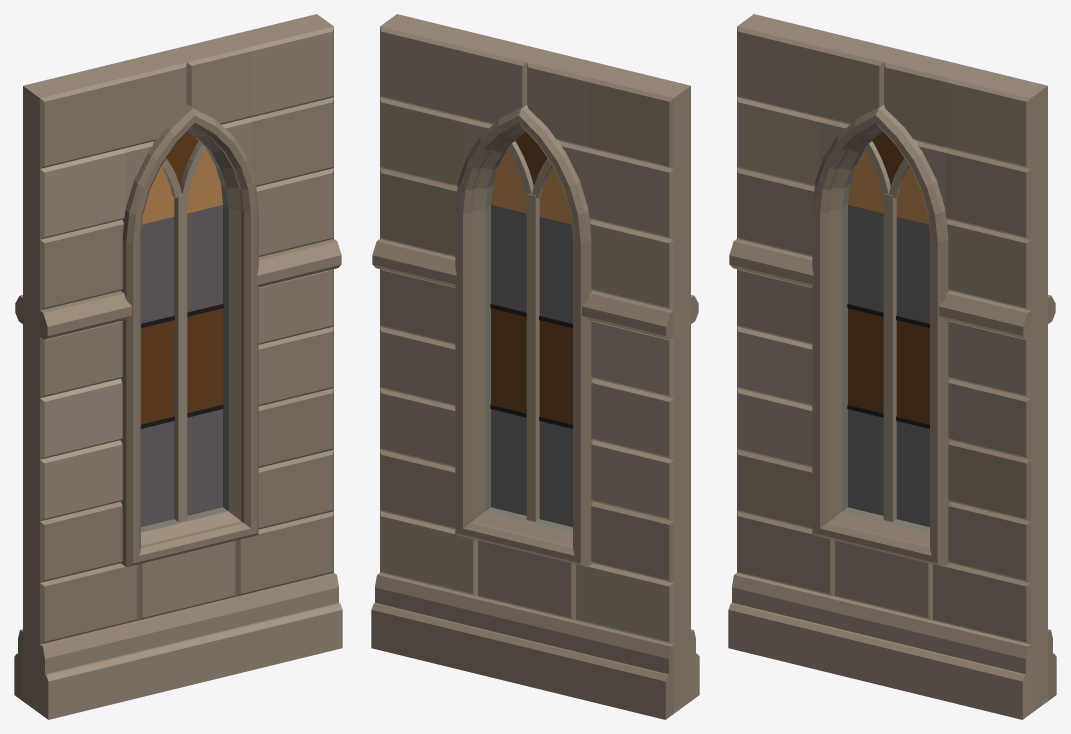
File: church-nave-wall-a6f070.glb
3 views of the same model, side by side, from view 1: azimuth 30°, elevation 25°; view 2: azimuth 150°, elevation 25°; view 3: azimuth 330°, elevation 25° (orthographic).
Size of the model in its own units: 2 by 4 by 0.4.
